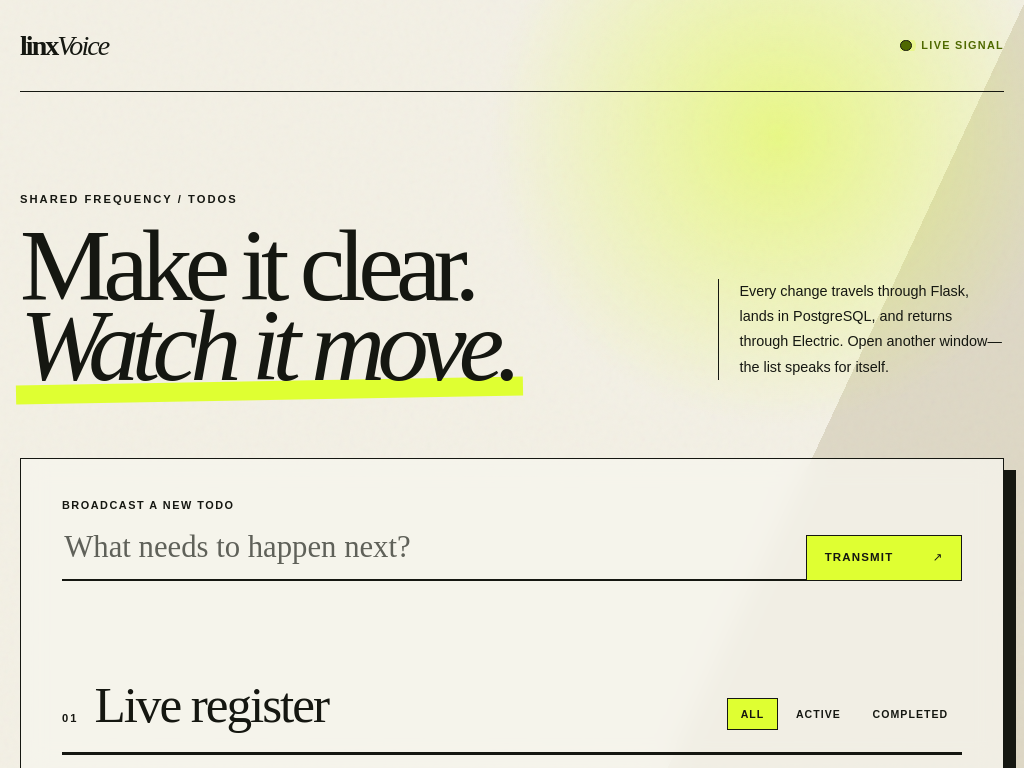
Scenario: live Todo register › restores the title when creation definitively fails
This screenshot has width=1024, height=768.
In the field labelled "Broadcast a new Todo": (434, 550) top-left (62, 520), bottom-right (806, 581), type "Do not lose me"
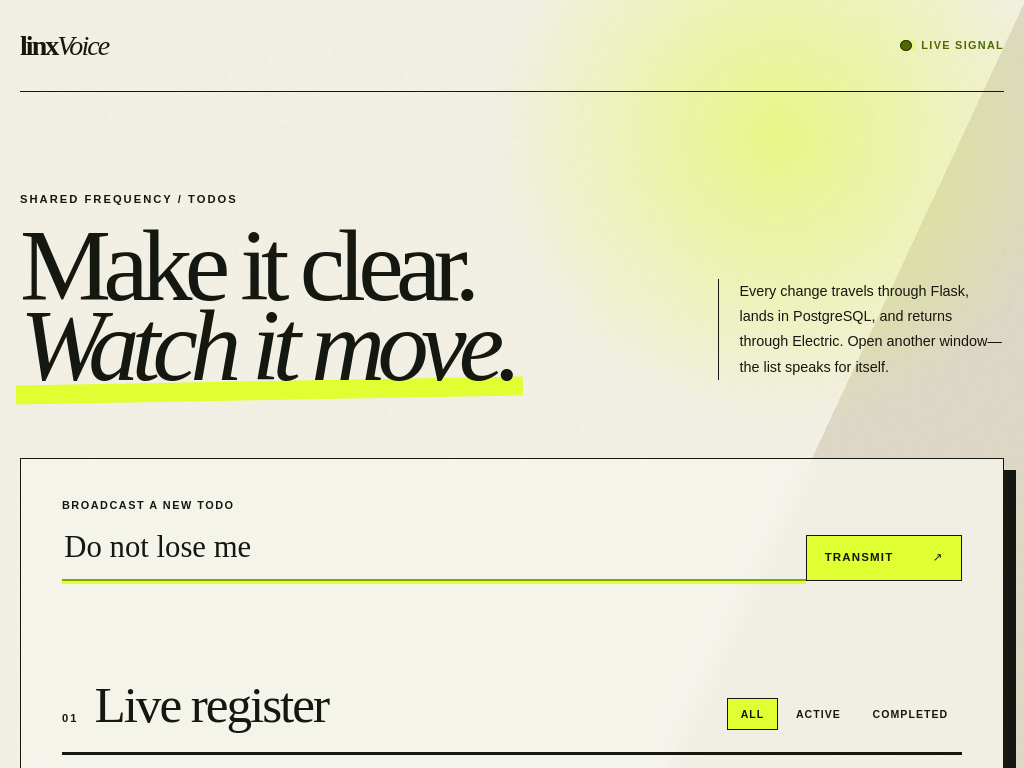
Click the button "Transmit ↗": (884, 558) top-left (806, 535), bottom-right (962, 581)
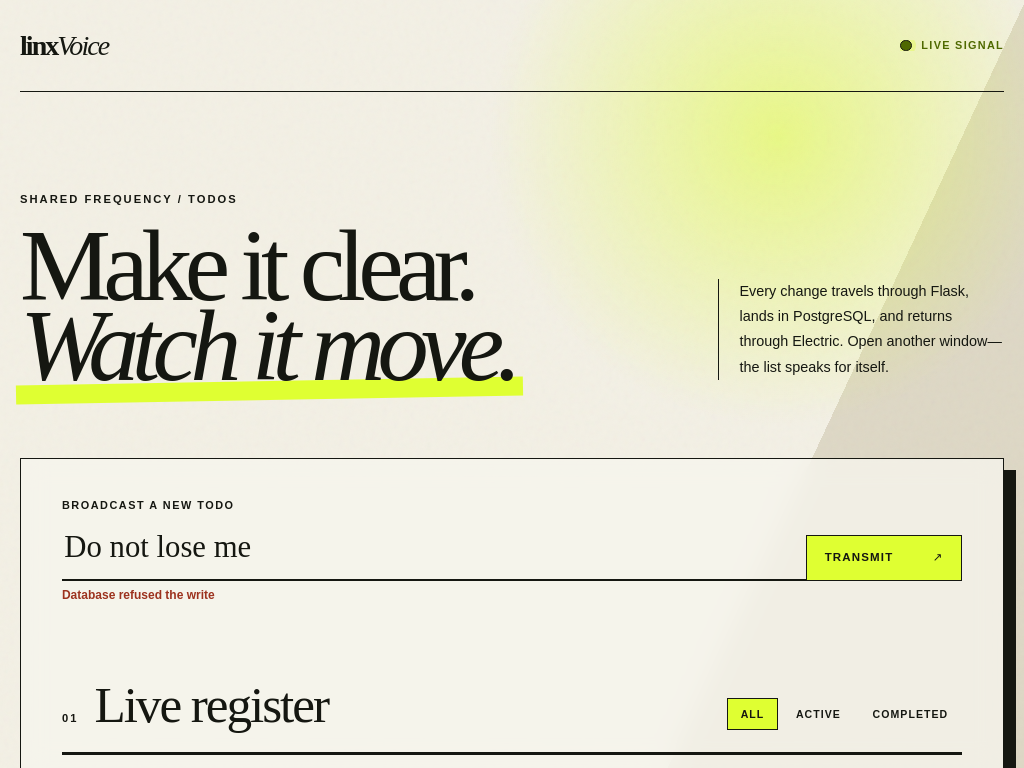
Check: the text "Database refused the write" is shown, box top-left (62, 588), bottom-right (215, 602)
